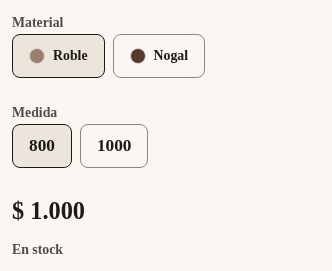
ProductOptions › [D8b, INV-1] a consult-price variant replaces the price row and shows the quote-copy availability line, never $0
Click the radio button labelled "Nogal" at x=159, y=56, box [112,34,205,78]
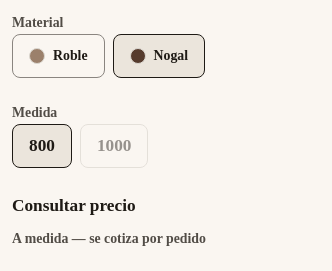
Expected: the text "Consultar precio" is shown, [12,196,136,215]
Expected: the text "A medida — se cotiza por pedido" is shown, [12,231,206,246]
Expected: the text "En stock" is gone
